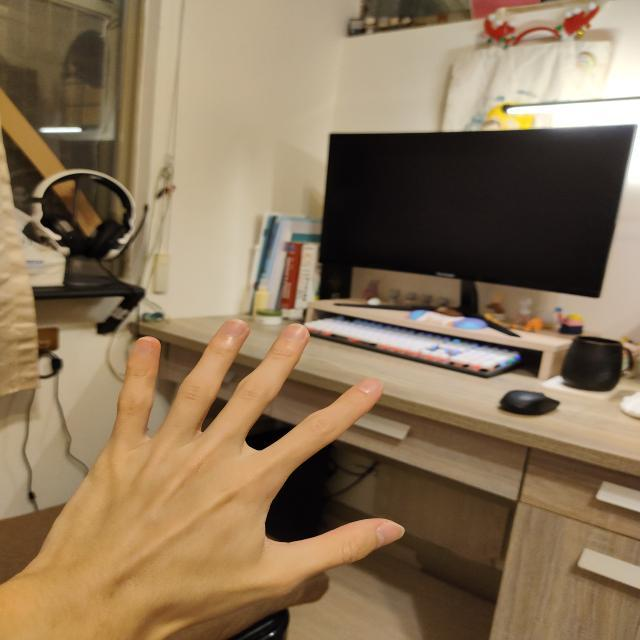no-gloves: (33, 316, 406, 616)
